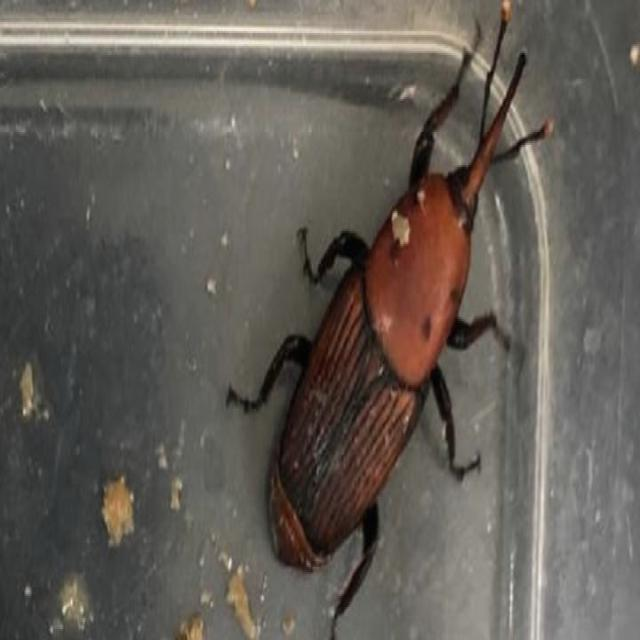Red-palm-weevil: (263, 0, 554, 569)
